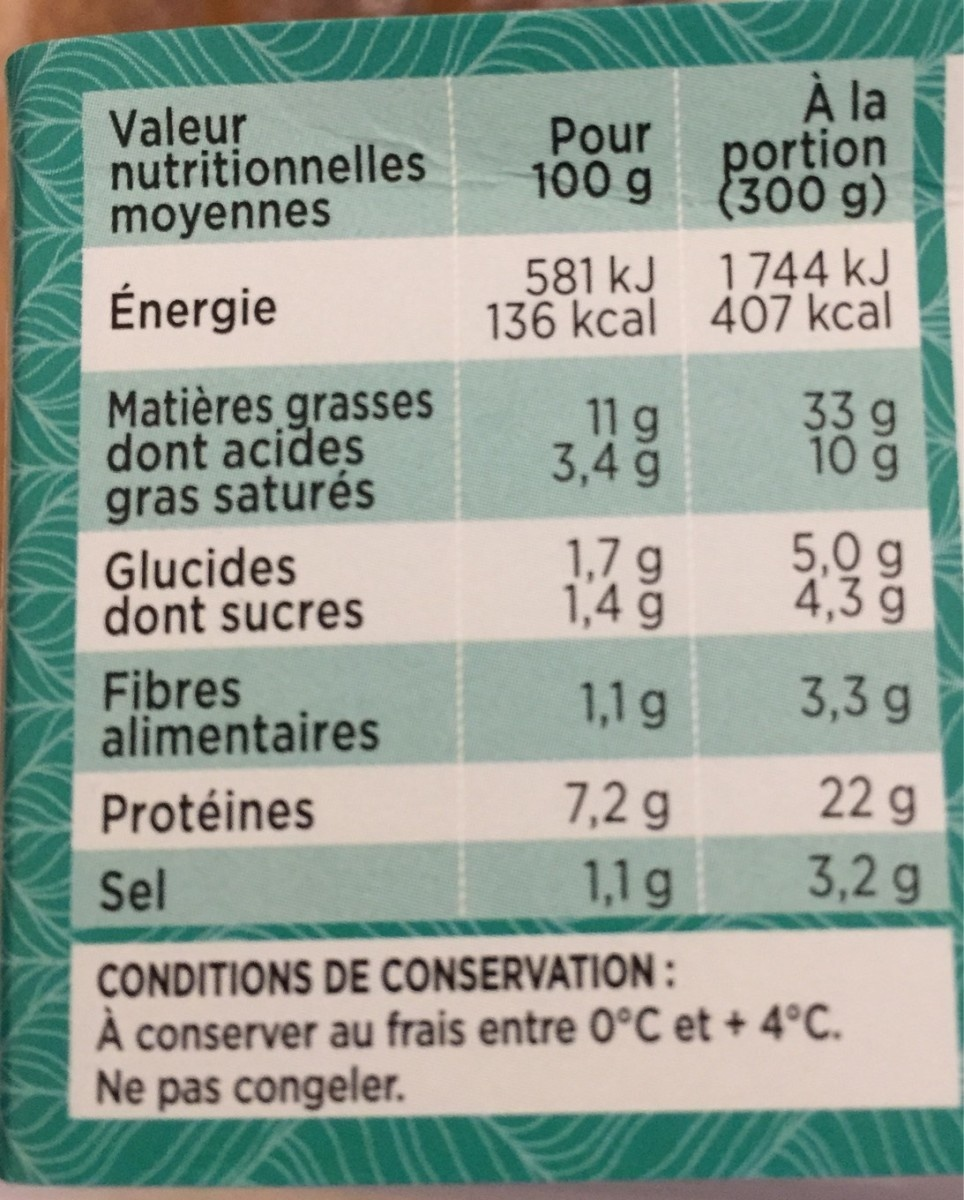column: (103, 81, 437, 921), (706, 70, 915, 912), (486, 74, 670, 917)
table: (77, 61, 944, 926)
